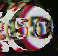Speed limit: (4, 4, 54, 53)
